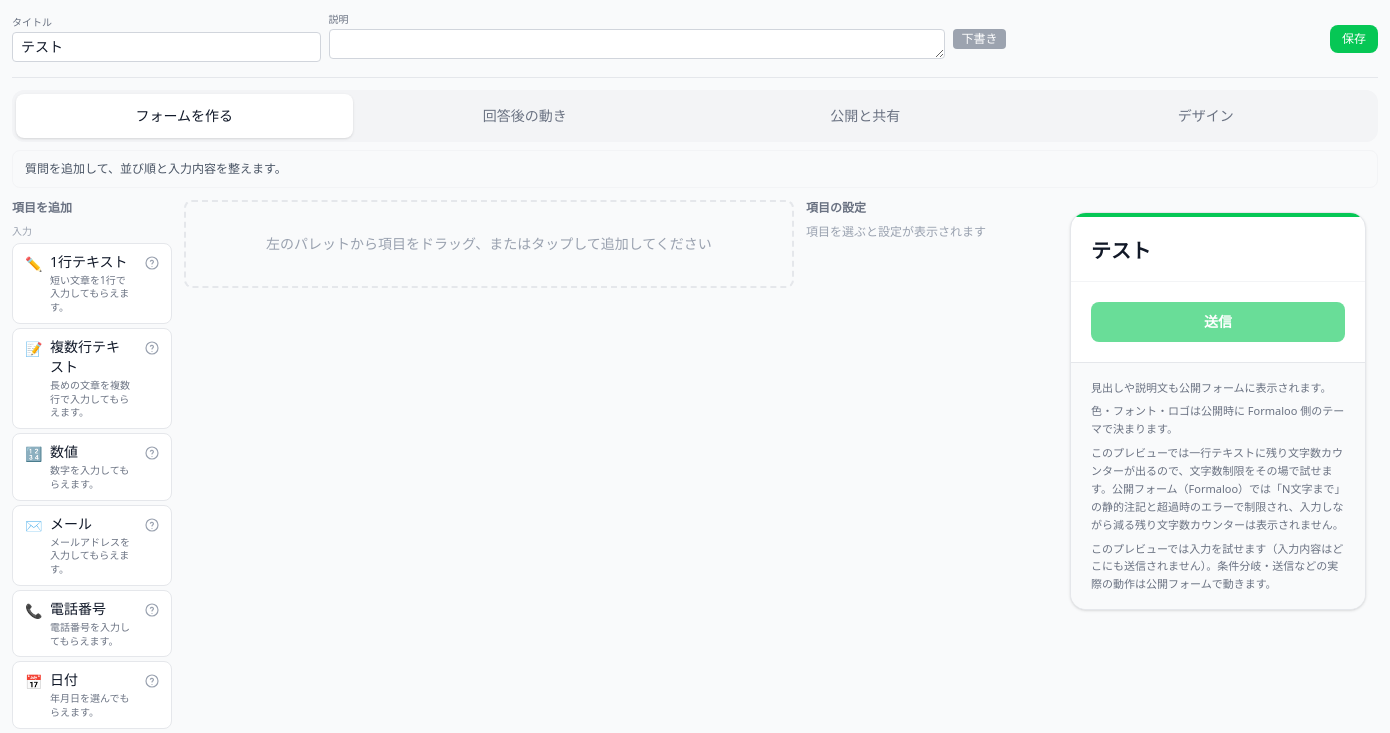
Test: FormBuilder — 設定パネル › field 選択でラベルを編集するとカードに反映
Click the button with aria-label "1行テキストを追加" at (92, 283), box x1=12 y1=242 x2=172 y2=324
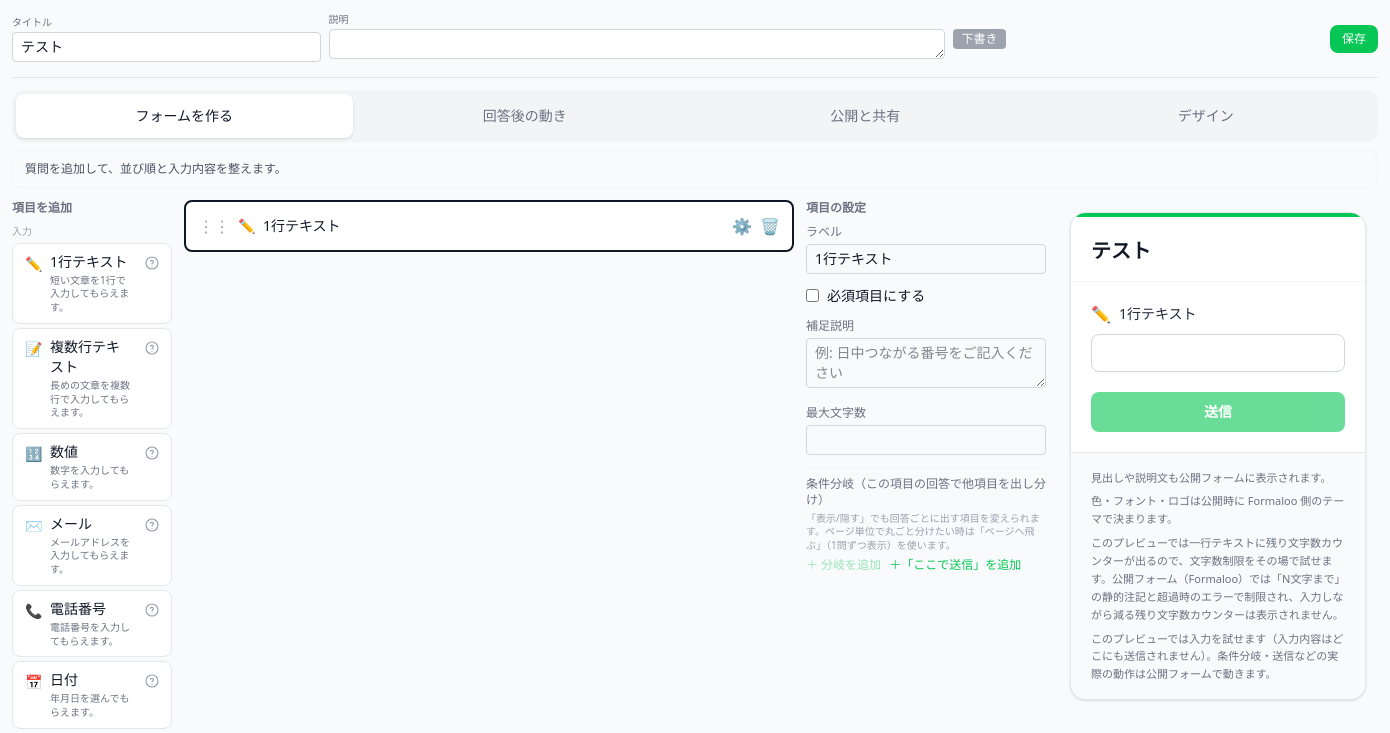
Note: 追加時に自動選択 → 設定パネルのラベル入力を編集
Replace the text in the field named "ラベル" with "お名前" at (926, 258), box x1=806 y1=244 x2=1046 y2=274
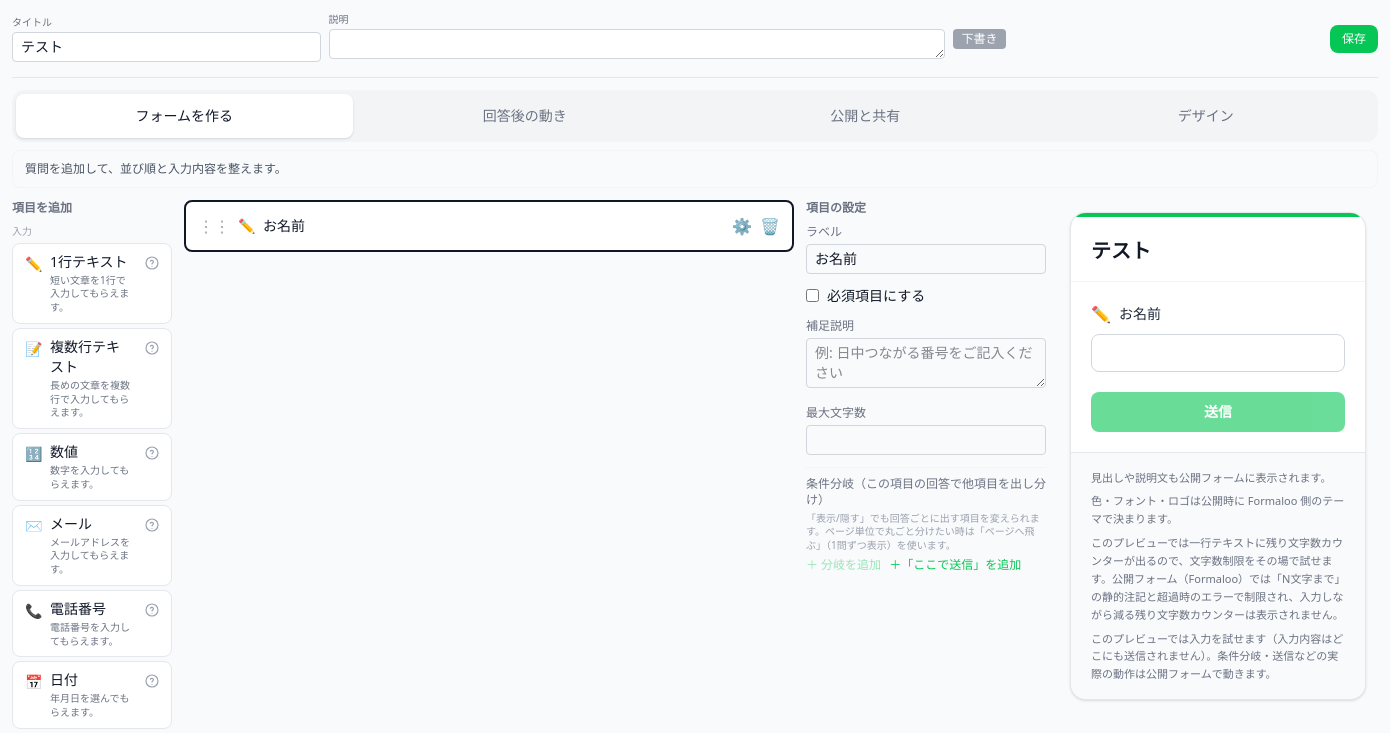
Now the text "お名前" is shown, box x1=263 y1=216 x2=305 y2=236
